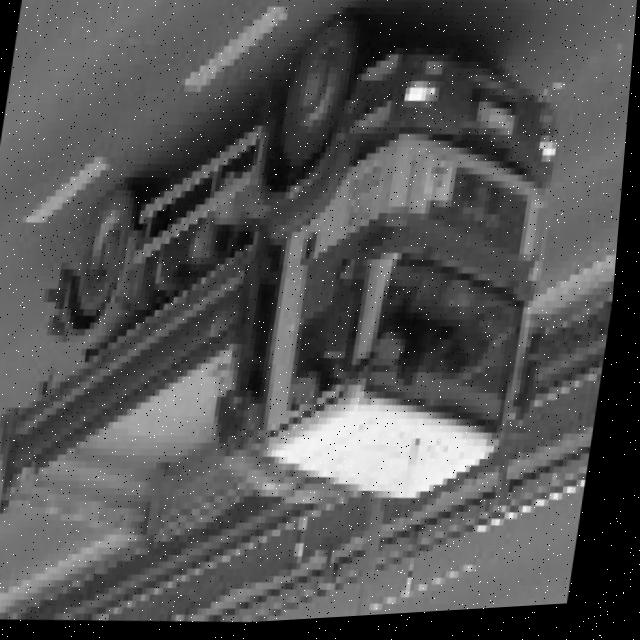truck: (192, 14, 599, 544)
